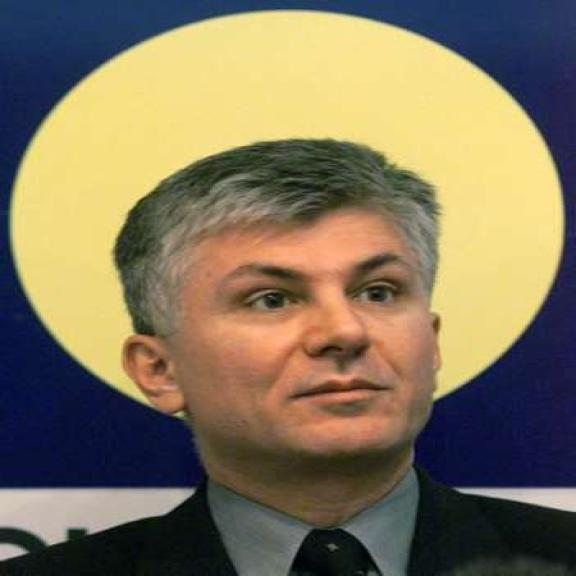face: (129, 218, 445, 472)
